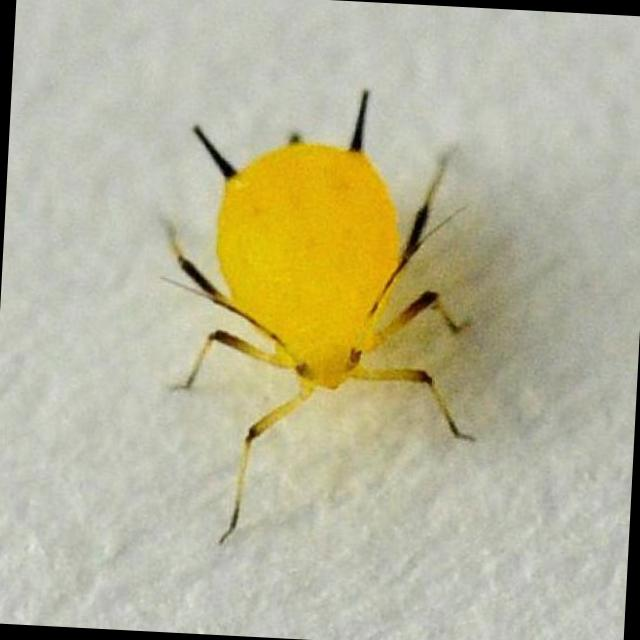aphid: (114, 90, 532, 556)
